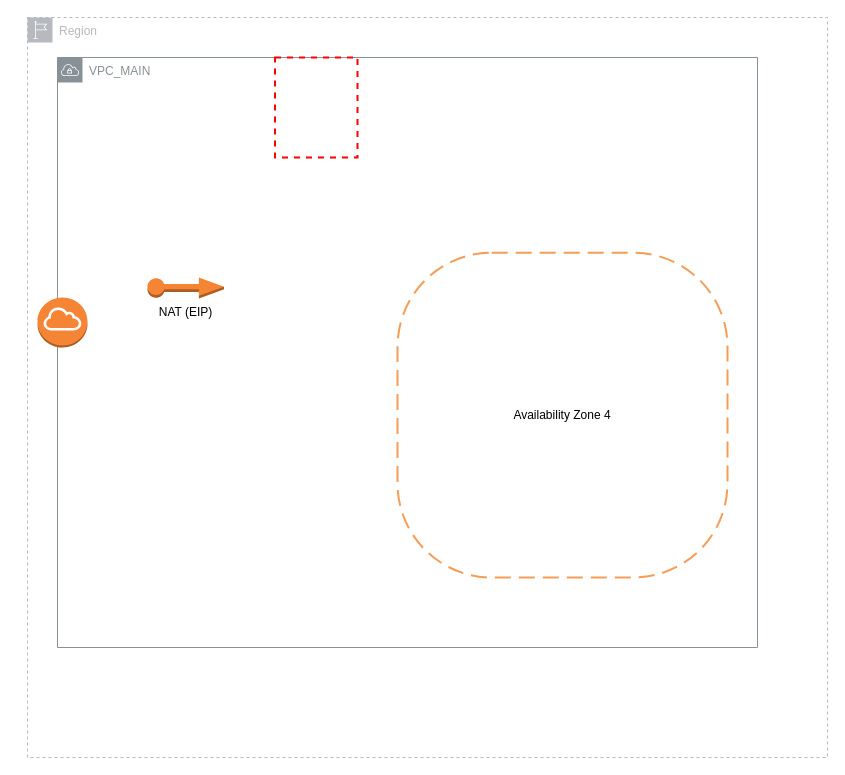
Image size: 845x775. Some labels were removed from this diagram. The centre of each missing label's shape, as x and y in pixels:
Internet Gateway: the point at 62,322
Security Group: the point at 316,107
